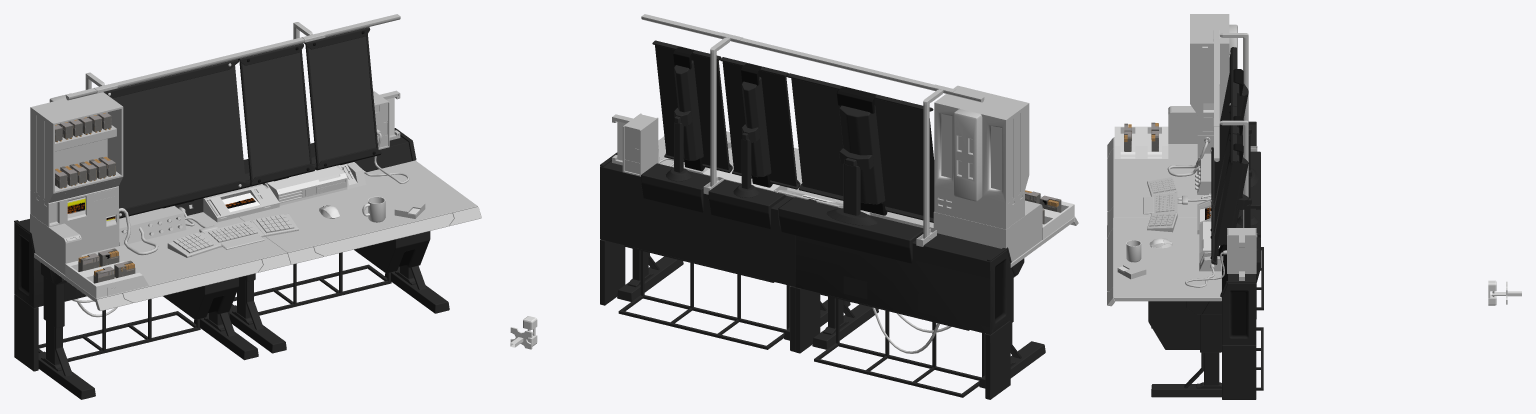
Rendered from ComputerUpgraded.fbx.
3 views of the same model, side by side, from view 1: azimuth 30°, elevation 25°; view 2: azimuth 150°, elevation 25°; view 3: azimuth 270°, elevation 25° (orthographic). The views are drawn at different scales.
Visible parts, largest first — view 1: Plane.004, Plane.003, Plane.095, Plane.101, Plane.096, Plane.094, Cube.012, Plane.002, Cube.010, Cube.024, Cylinder.010, Cube.011 (+11 smaller); view 2: Plane.095, Plane.004, Plane.002, Plane.101, Cube.012, Plane.096, Cube.010, Cylinder.010, Cube.011, Cube.028, Cube.020, Cube.023 (+4 smaller); view 3: Plane.002, Plane.003, Plane.094, Cube.012, Plane.096, Plane.004, Plane.001, Cube.024, Cube.010, Plane.101, Cylinder.010, Cube.001 (+9 smaller).
Boxes of the visible parts, x1,y1,x2,y2 form: Plane.004: [103, 59, 249, 218]; Plane.003: [239, 160, 481, 264]; Plane.095: [14, 198, 258, 399]; Plane.101: [238, 43, 315, 186]; Plane.096: [304, 27, 381, 170]; Plane.094: [34, 212, 290, 310]; Cube.012: [30, 92, 123, 202]; Plane.002: [227, 128, 449, 353]; Cube.010: [30, 210, 119, 275]; Cube.024: [167, 214, 298, 257]; Cylinder.010: [65, 14, 400, 100]; Cube.011: [30, 186, 118, 227]; Plane.095: [795, 200, 1045, 399]; Plane.004: [778, 73, 934, 263]; Plane.002: [600, 152, 850, 351]; Plane.101: [708, 57, 800, 228]; Cube.012: [934, 85, 1029, 204]; Plane.096: [641, 40, 732, 212]; Cube.010: [933, 200, 1042, 262]; Cylinder.010: [641, 14, 984, 102]; Cube.011: [934, 187, 1024, 229]; Cube.028: [622, 120, 649, 176]; Cube.020: [923, 98, 930, 238]; Cube.023: [710, 46, 717, 186]; Plane.002: [1151, 208, 1263, 399]; Plane.003: [1107, 217, 1221, 306]; Plane.094: [1107, 137, 1211, 224]; Cube.012: [1190, 14, 1237, 114]; Plane.096: [1210, 134, 1260, 282]; Plane.004: [1211, 47, 1260, 209]; Plane.001: [1148, 301, 1199, 349]; Cube.024: [1143, 177, 1177, 232]; Cube.010: [1168, 106, 1213, 159]; Plane.101: [1210, 106, 1260, 237]; Cylinder.010: [1214, 18, 1219, 161]; Cube.001: [1141, 126, 1168, 158].
Size of the model in its own units: 400 by 272 by 436.
